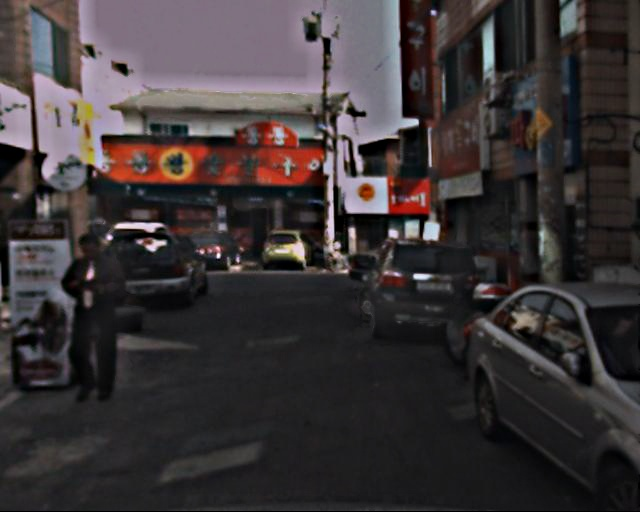person: (58, 231, 138, 405)
